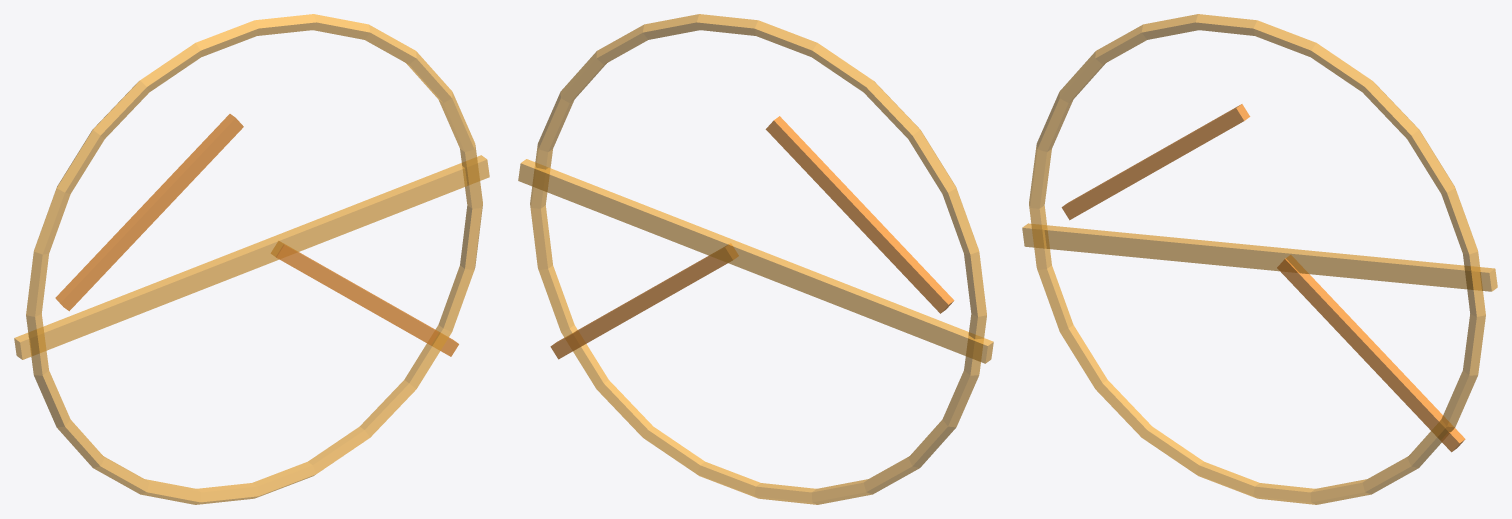
File: vfx_ground_slam_crack.glb
3 renders of one model, left to right at view 1: azimuth 30°, elevation 25°; view 2: azimuth 150°, elevation 25°; view 3: azimuth 330°, elevation 25°, orthographic.
Parts seen in each view (by area): view 1: ring, crack_main, branch_l, branch_r; view 2: ring, crack_main, branch_l, branch_r; view 3: ring, crack_main, branch_r, branch_l.
Boxes of the visible parts, x1,y1,x2,y2 form: ring: (26, 14, 482, 504); crack_main: (14, 155, 489, 359); branch_l: (55, 114, 243, 311); branch_r: (271, 241, 458, 356); ring: (530, 14, 986, 504); crack_main: (518, 159, 993, 363); branch_l: (765, 116, 954, 313); branch_r: (550, 243, 738, 359); ring: (1029, 14, 1485, 504); crack_main: (1022, 223, 1497, 291); branch_r: (1277, 255, 1465, 452); branch_l: (1061, 104, 1250, 220).
Bounding box in the file's own units: 1.59 × 1.55 × 0.0563.
